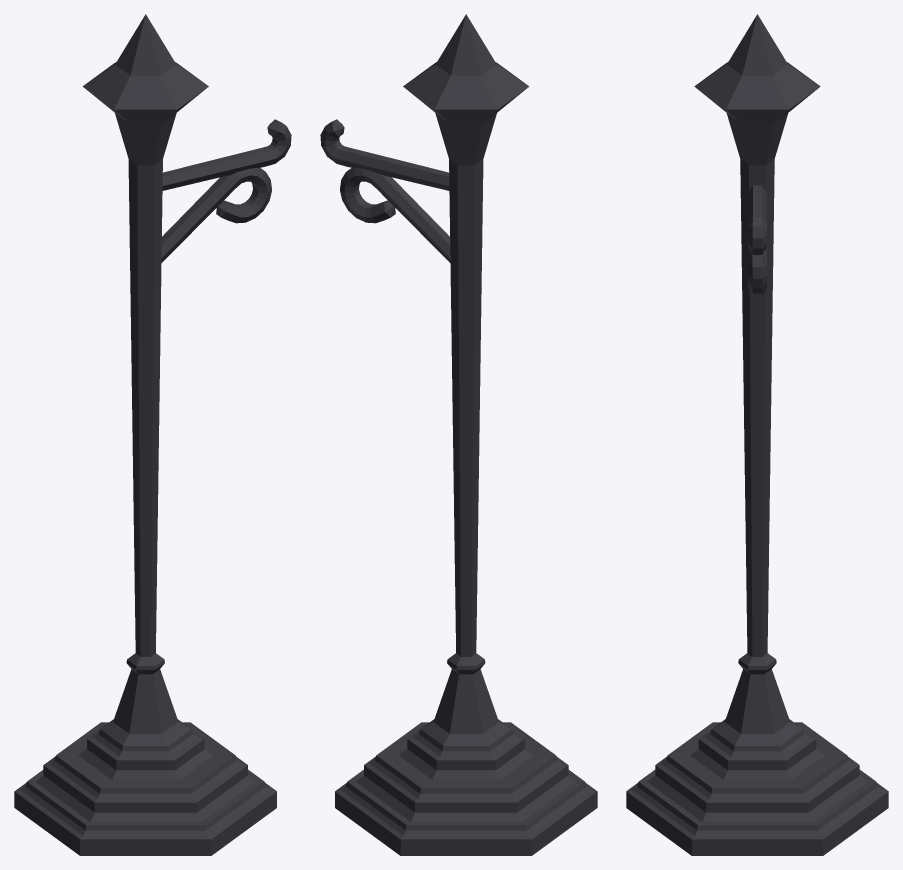
Rendered from Lantern_Pole.glb.
3 views of the same model, side by side, from view 1: azimuth 30°, elevation 25°; view 2: azimuth 150°, elevation 25°; view 3: azimuth 270°, elevation 25° (orthographic).
Bounding box in the file's own units: 38.55 × 121 × 36.25.
Materials: 1 (1 with a texture image).
